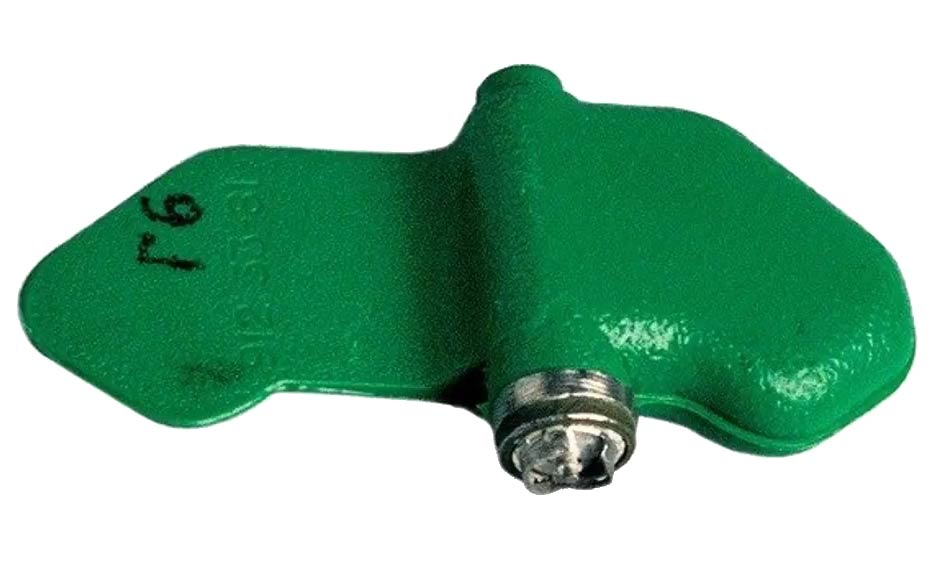butterfly: (8, 42, 929, 495)
